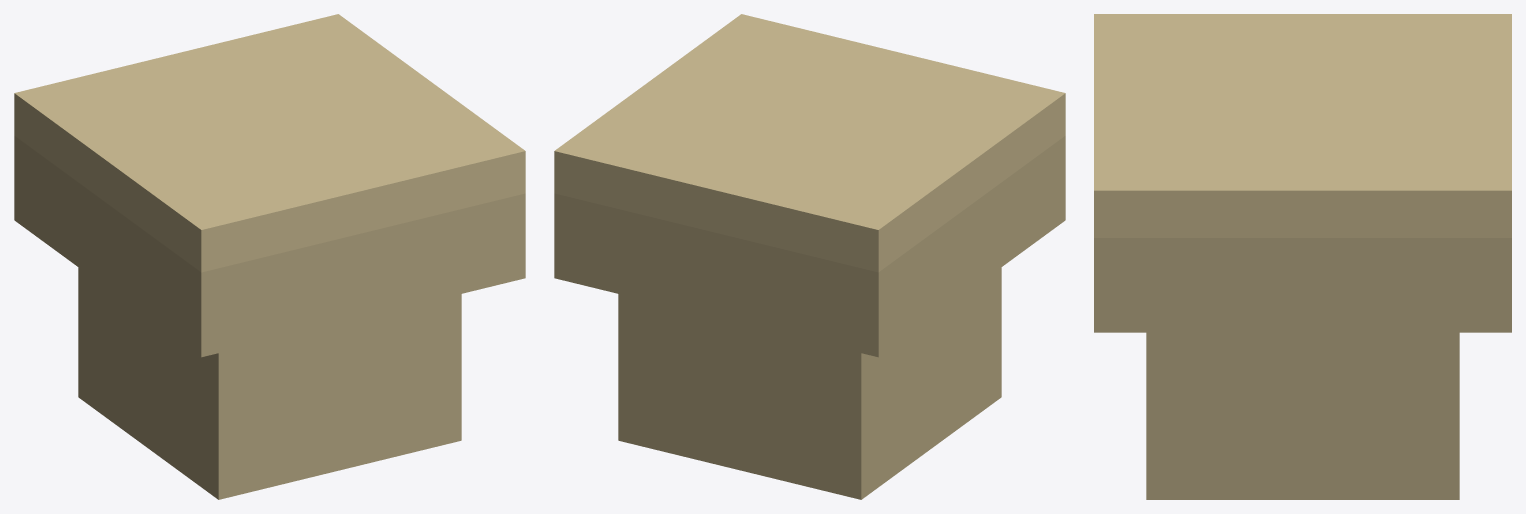
The model's file is taza_01.glb.
3 views of the same model, side by side, from view 1: azimuth 30°, elevation 25°; view 2: azimuth 150°, elevation 25°; view 3: azimuth 270°, elevation 25° (orthographic). The views are drawn at different scales.
Parts seen in each view (by area): view 1: taza; view 2: taza; view 3: taza.
Boxes of the visible parts, <box> form: taza: <box>14,14,525,499</box>; taza: <box>554,14,1065,499</box>; taza: <box>1094,14,1511,499</box>.
Bounding box in the file's own units: 0.6667 × 0.5833 × 0.6667.
